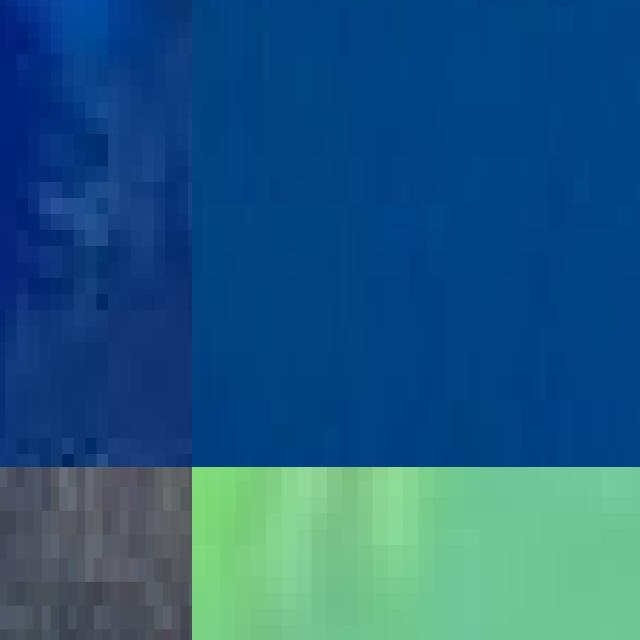fish: (0, 0, 192, 467)
